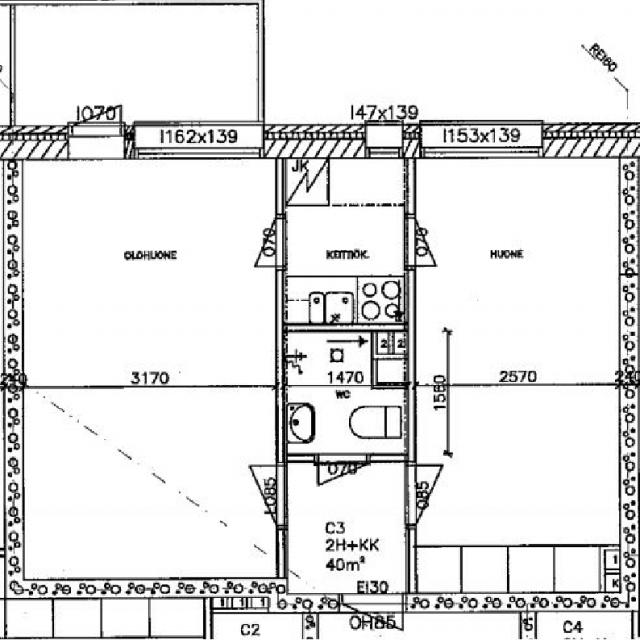door: (216, 466, 288, 527), (406, 465, 476, 526), (71, 75, 121, 158), (318, 455, 369, 514), (228, 218, 286, 267), (406, 219, 465, 267)
